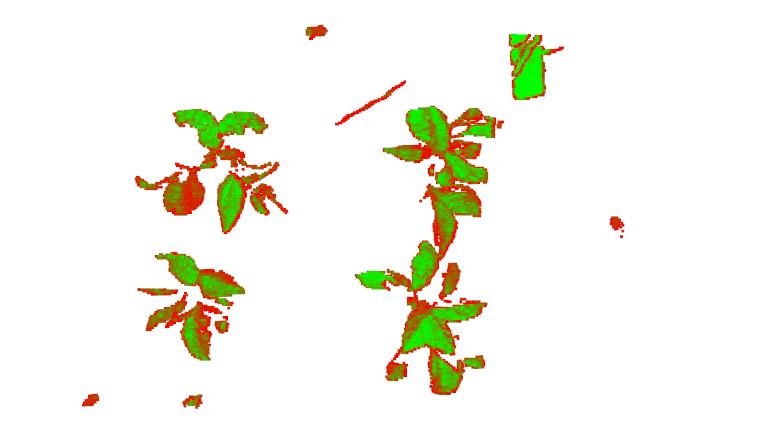mungbean: (356, 214, 487, 397), (133, 108, 289, 235), (383, 105, 509, 214), (138, 252, 245, 360)
